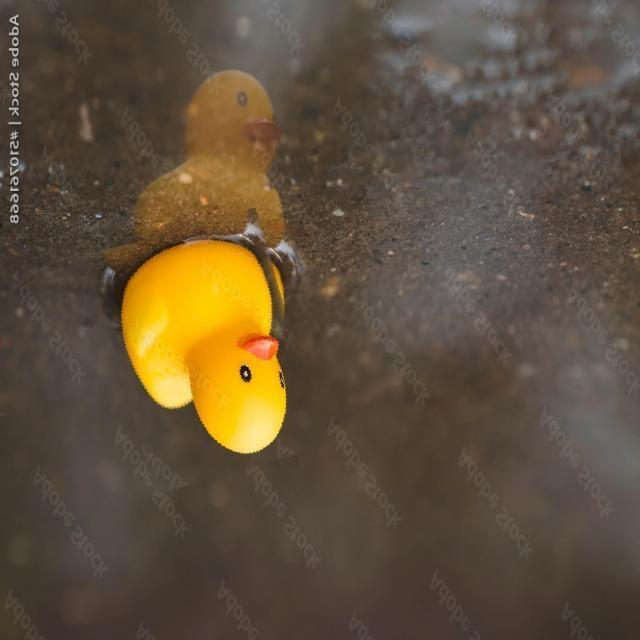rubber-duck: (120, 233, 284, 451)
